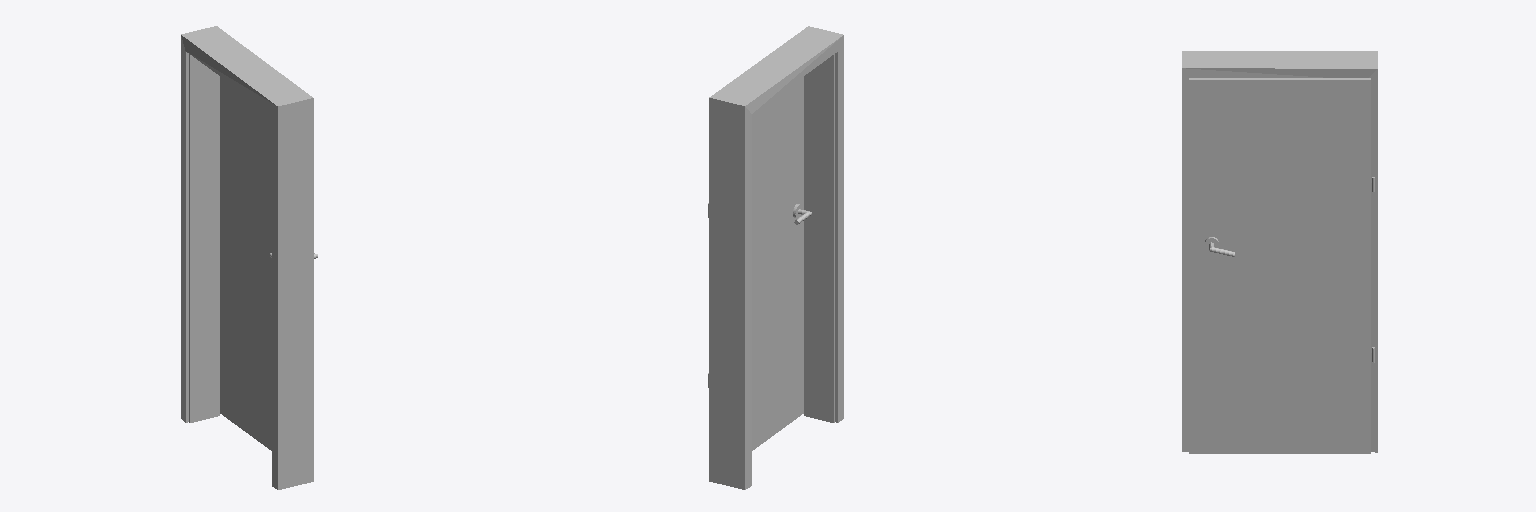
The model's file is door33.obj.
The picture shows the model from 3 angles: view 1: azimuth 30°, elevation 25°; view 2: azimuth 150°, elevation 25°; view 3: azimuth 270°, elevation 25°; orthographic projection.
Parts seen in each view (by area): view 1: Cylinder.005, Cylinder.001; view 2: Cylinder.005, Cylinder.001; view 3: Cylinder.001, Cylinder.005.
Part boxes in pixels (bbox=[...]): Cylinder.005: bbox=[181, 26, 313, 489]; Cylinder.001: bbox=[220, 77, 271, 450]; Cylinder.005: bbox=[708, 26, 843, 489]; Cylinder.001: bbox=[708, 77, 803, 450]; Cylinder.001: bbox=[1189, 78, 1374, 453]; Cylinder.005: bbox=[1182, 51, 1377, 452].
Size of the model in its own units: 0.3039 by 2.05 by 0.95.